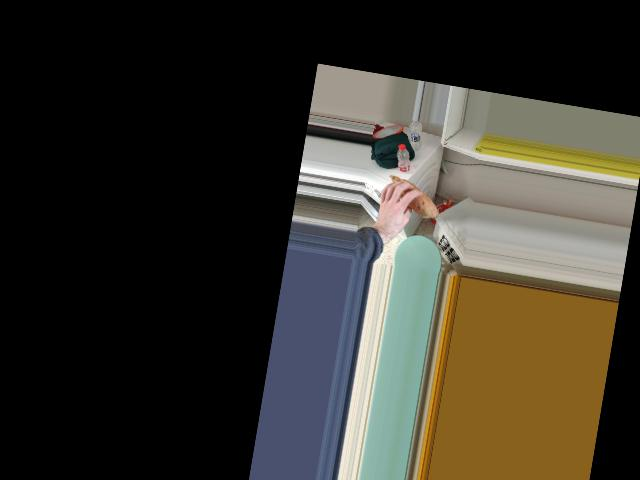sweet_potato: (381, 176, 440, 220)
